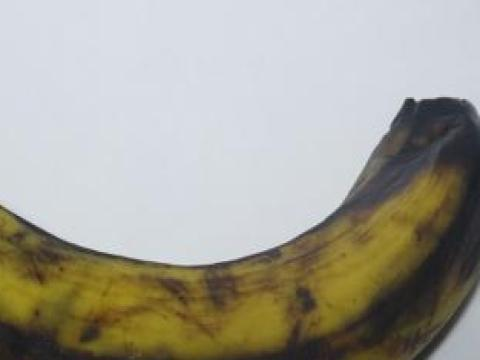overripe: (0, 82, 479, 359)
